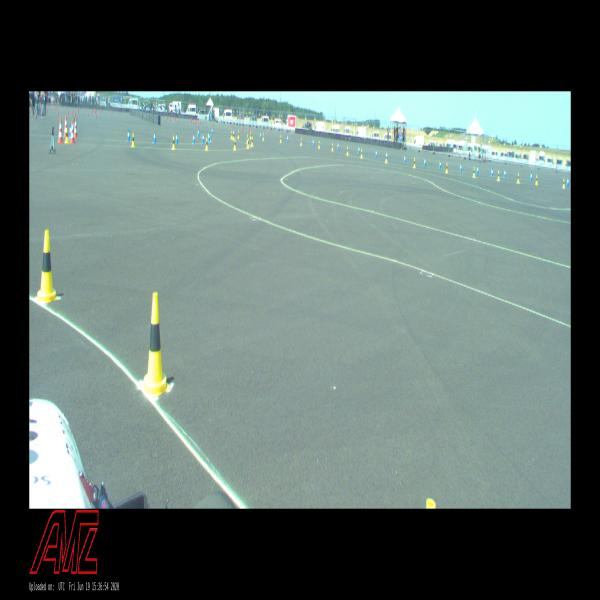blue_cone: (153, 131, 156, 143), (127, 129, 130, 141), (176, 132, 178, 144), (375, 150, 378, 158), (69, 125, 71, 137), (202, 133, 204, 144), (193, 133, 195, 144), (460, 162, 462, 173), (208, 132, 210, 142), (424, 157, 426, 166), (567, 177, 569, 186), (439, 160, 441, 169), (530, 172, 532, 181), (504, 169, 506, 177), (476, 166, 478, 174), (491, 168, 493, 176), (337, 142, 339, 150), (386, 151, 388, 159), (260, 132, 262, 139), (358, 146, 360, 153), (211, 128, 213, 134), (198, 128, 199, 137), (404, 155, 405, 163), (287, 135, 288, 142), (234, 129, 235, 136), (313, 139, 314, 145)
large_orange_cone: (57, 119, 63, 143), (70, 120, 75, 143), (74, 116, 78, 138), (64, 116, 67, 136)
yellow_cone: (140, 293, 170, 398), (35, 231, 58, 302), (131, 132, 135, 147), (65, 128, 68, 143), (172, 136, 175, 149), (205, 138, 208, 150), (497, 170, 500, 181), (413, 157, 416, 168), (535, 174, 538, 185), (251, 136, 254, 147), (517, 173, 519, 184), (234, 139, 236, 150), (473, 167, 475, 177), (446, 163, 448, 173), (246, 134, 248, 144), (247, 138, 249, 148), (563, 179, 565, 188), (230, 130, 232, 139), (300, 138, 302, 146), (280, 135, 282, 143), (386, 154, 388, 162), (318, 141, 320, 148), (361, 149, 362, 158), (238, 130, 239, 138), (233, 132, 234, 140), (347, 147, 348, 154), (250, 132, 251, 139), (263, 133, 264, 140), (332, 144, 333, 150)
